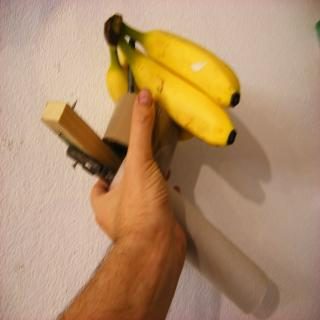Banana: (121, 23, 240, 108), (106, 46, 193, 146), (120, 41, 145, 69)
